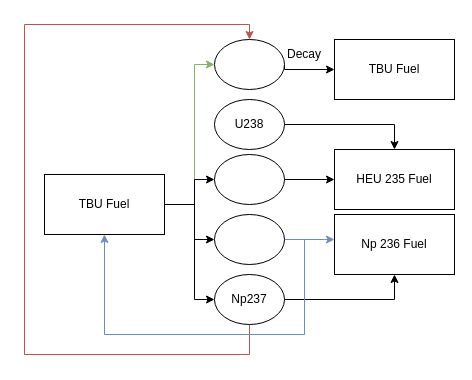
This 472x380 diagram has some shape labels left out. The shapes that lost their labels are listed below. From the top down, each one's centre as x and y in pixels, then its label:
At point (249, 64): "U233".
At point (249, 179): "U235".
At point (249, 239): "Np236".
